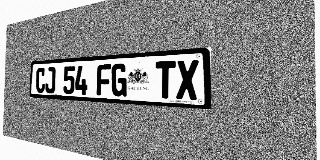4: (75, 65, 88, 95)
5: (63, 66, 75, 94)
C: (36, 67, 45, 93)
F: (97, 64, 111, 96)
G: (111, 63, 127, 97)
J: (45, 67, 55, 94)
T: (155, 61, 176, 99)
X: (176, 59, 199, 100)
